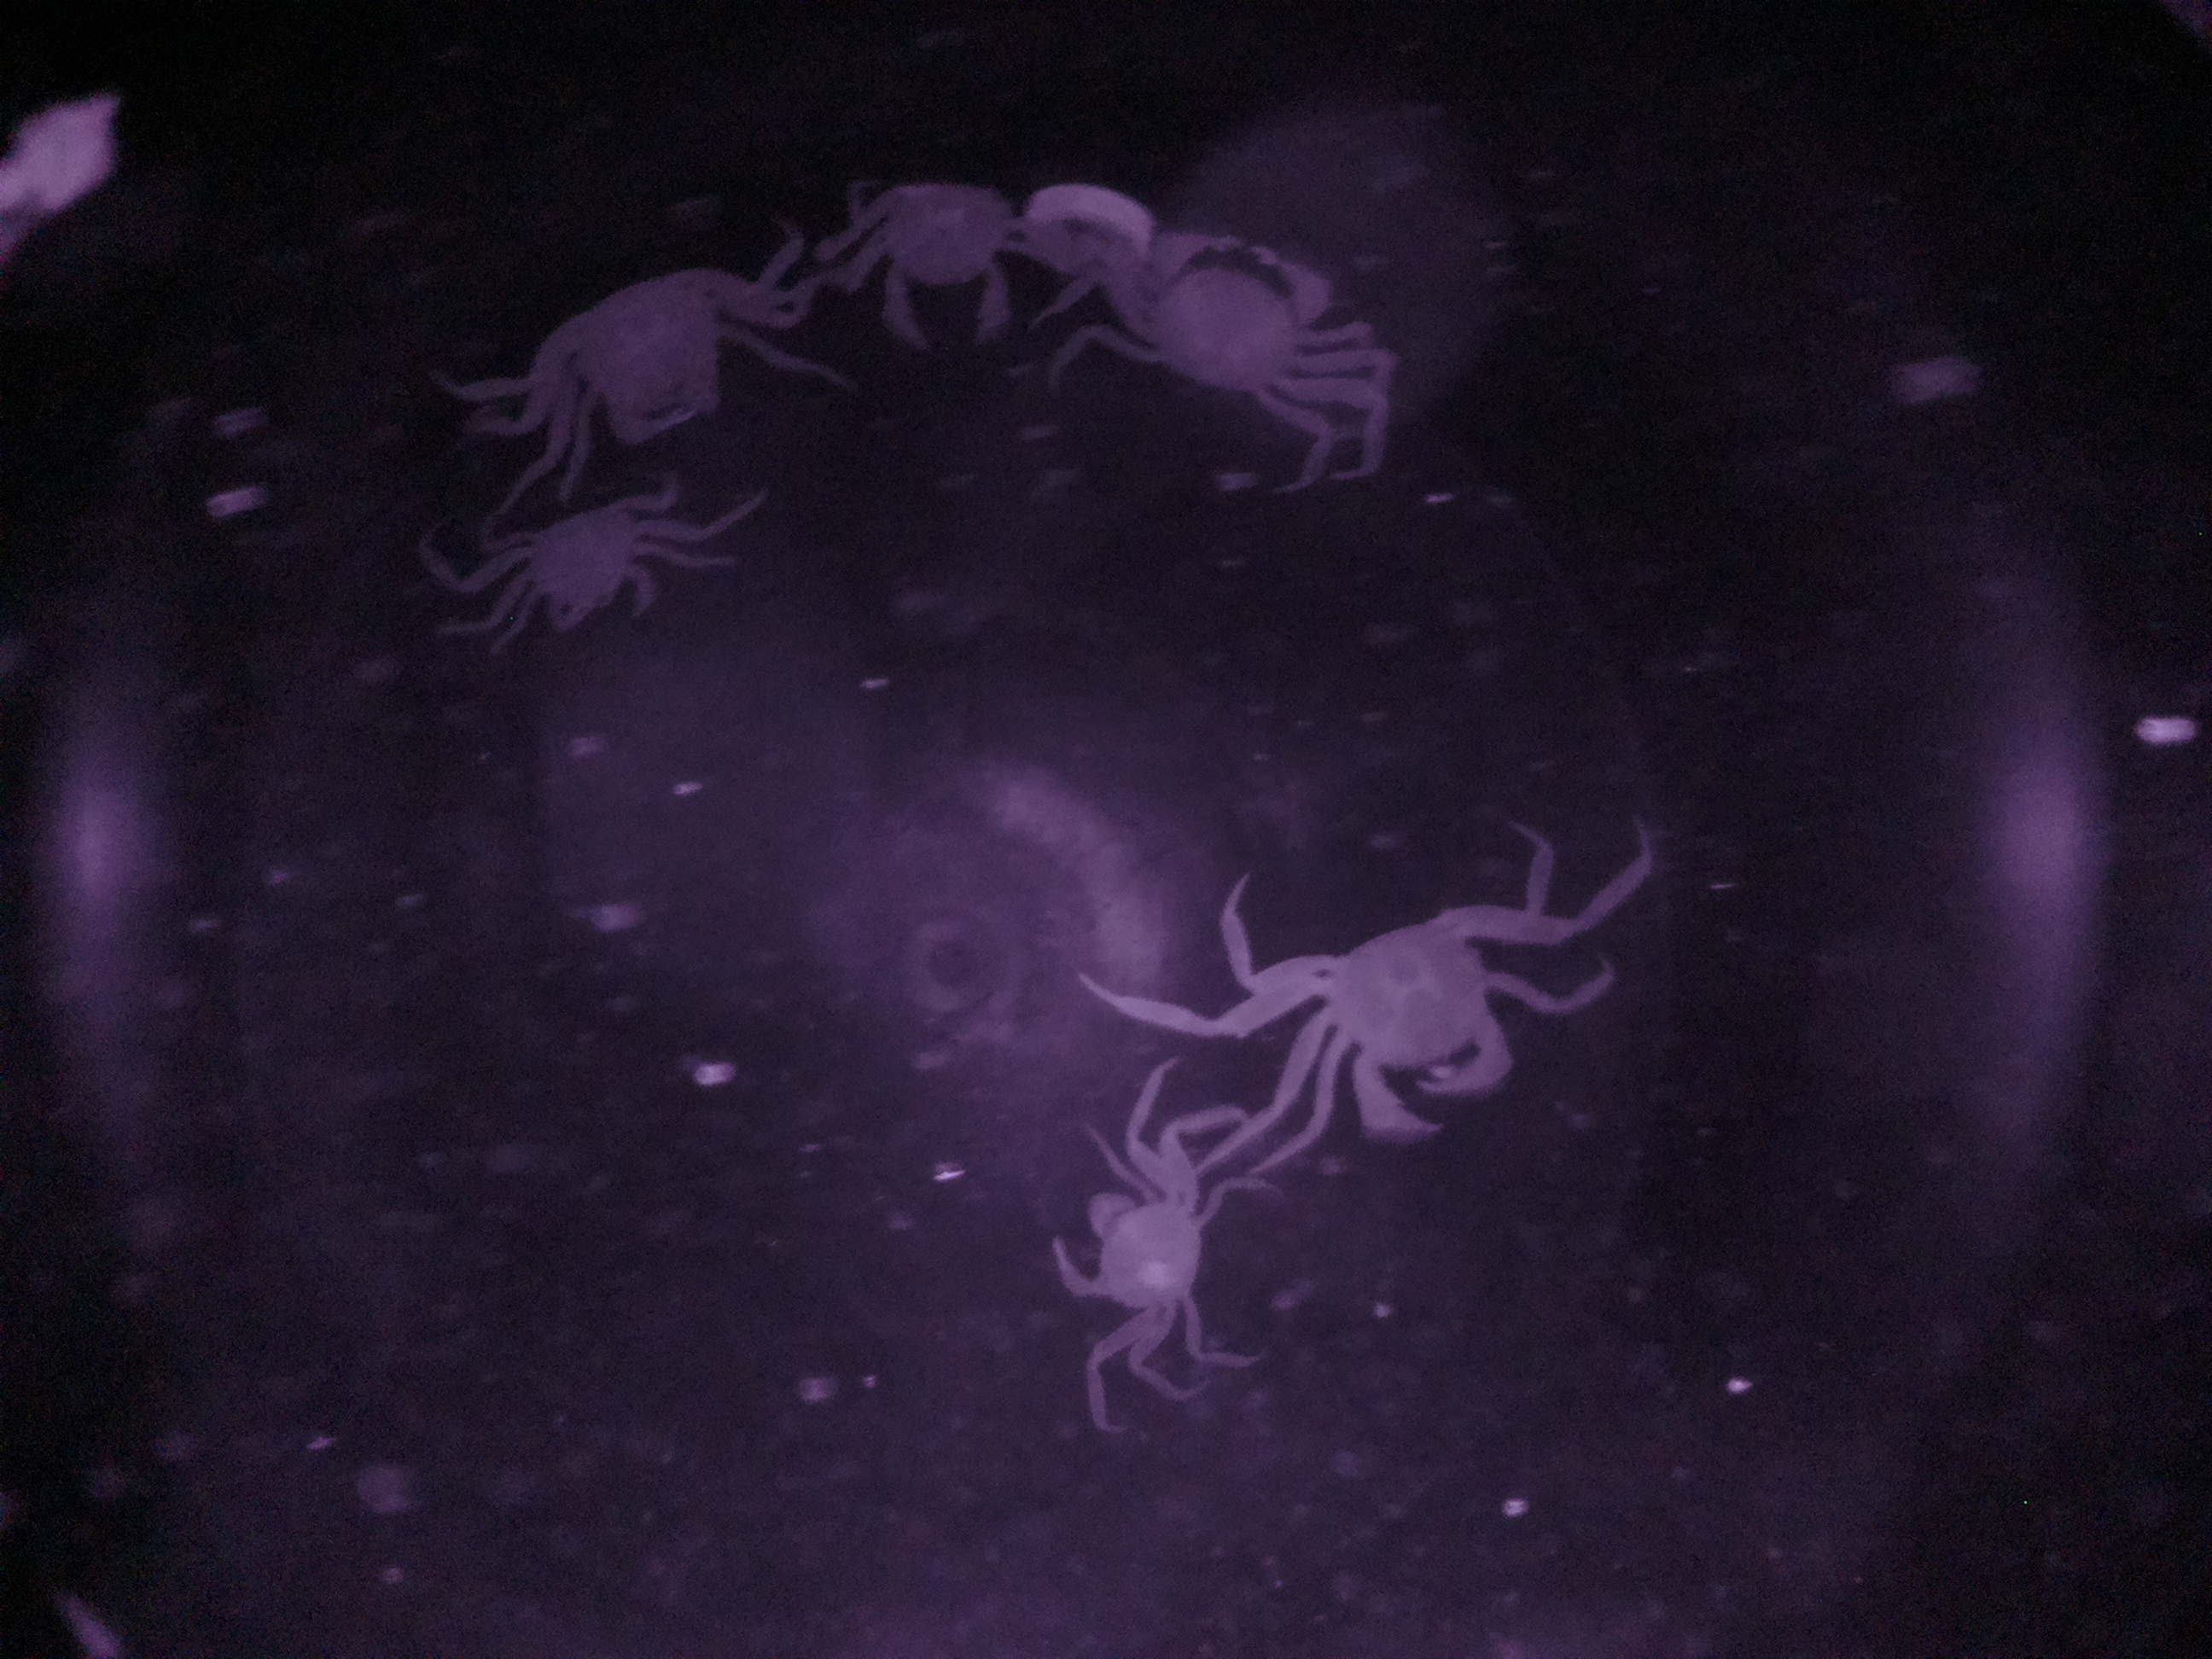Crab: (1252, 887, 1559, 1148), (1115, 206, 1376, 462), (542, 254, 775, 462), (1038, 1152, 1261, 1366), (829, 167, 1040, 366), (502, 488, 681, 648)
